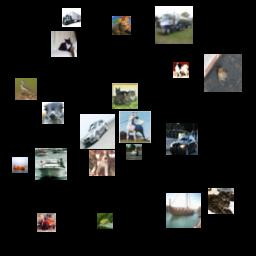automobile: (80, 114, 115, 149), (166, 123, 198, 155), (126, 144, 142, 160)
bird: (42, 102, 64, 124), (15, 78, 37, 100)
cat: (204, 54, 242, 92), (112, 83, 138, 109), (208, 188, 234, 214), (51, 31, 77, 57), (112, 16, 131, 35)
dog: (89, 150, 115, 176), (173, 62, 189, 78)
frog: (97, 213, 113, 229)
ship: (166, 193, 201, 228), (35, 148, 67, 180), (12, 157, 28, 173)
truck: (155, 6, 193, 44), (62, 8, 81, 27), (37, 213, 56, 232)
